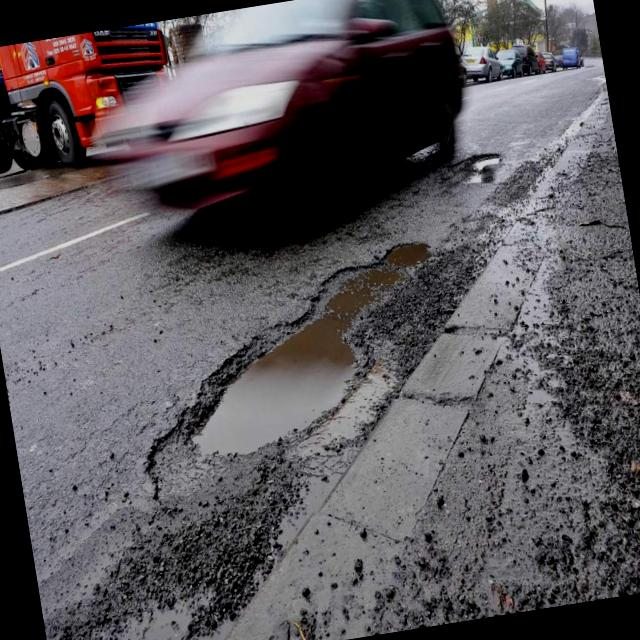bad-road: (119, 237, 466, 501), (462, 148, 508, 184)
